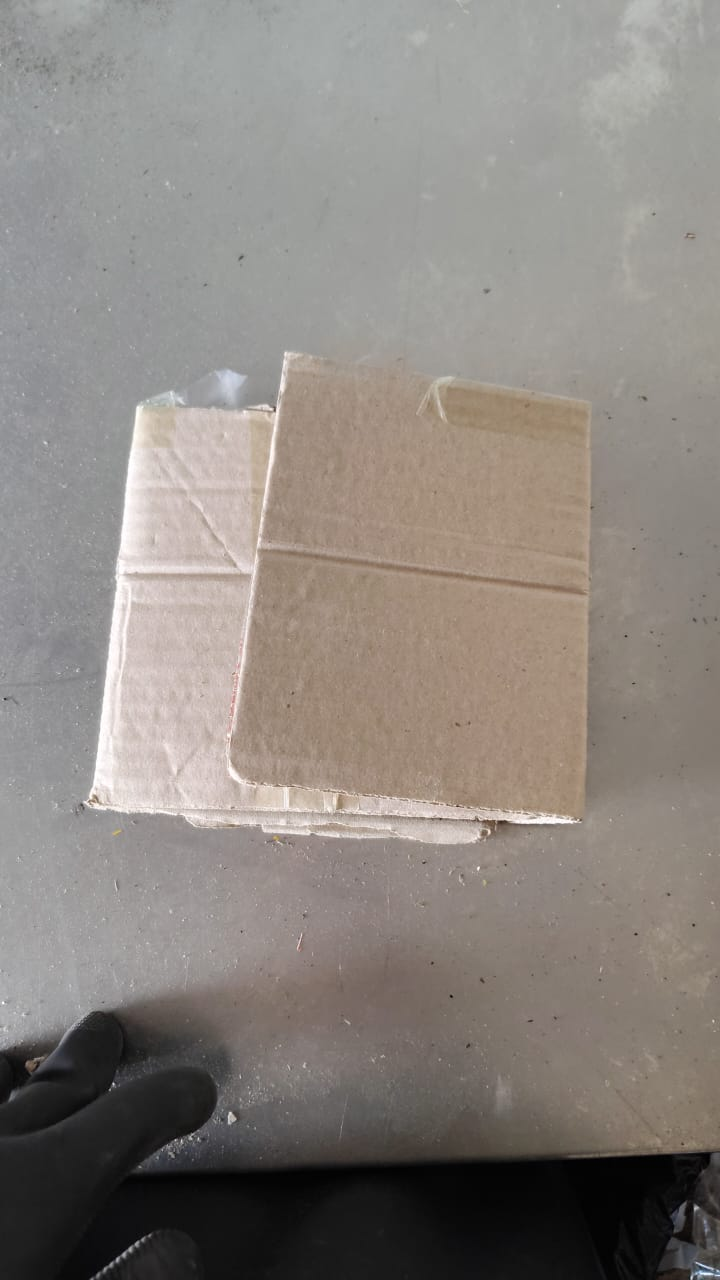Carton: (91, 352, 593, 844)
